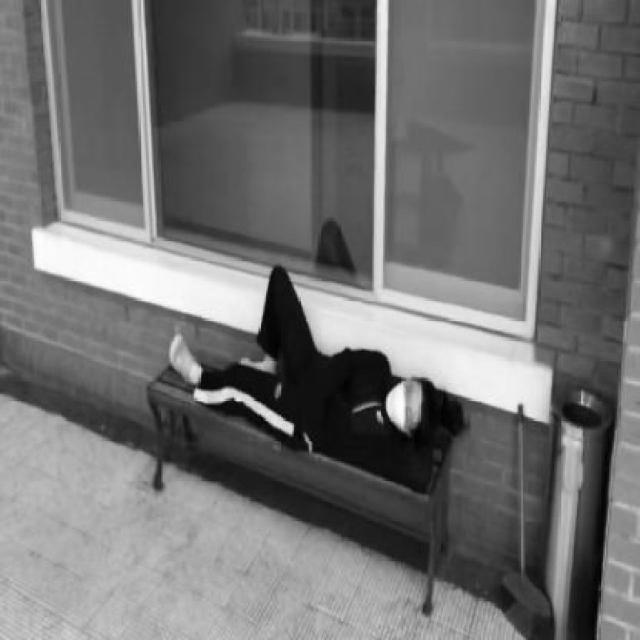person: (171, 255, 440, 482)
